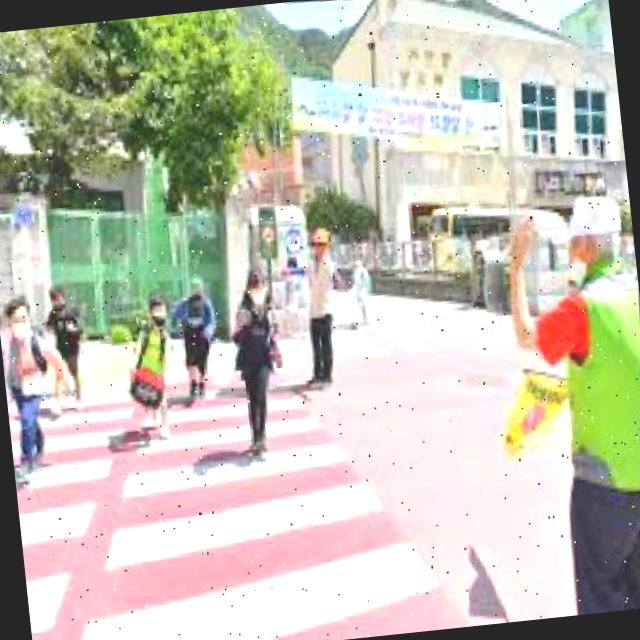Person: (479, 188, 640, 618), (0, 287, 78, 485), (217, 262, 294, 460), (287, 225, 353, 392), (120, 288, 180, 442), (162, 272, 228, 402), (39, 279, 95, 414), (340, 248, 379, 331)
